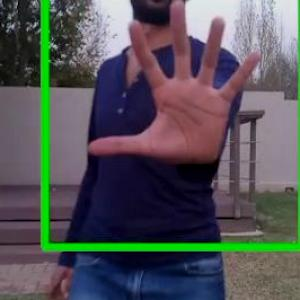follow_hand: (86, 0, 266, 169)
